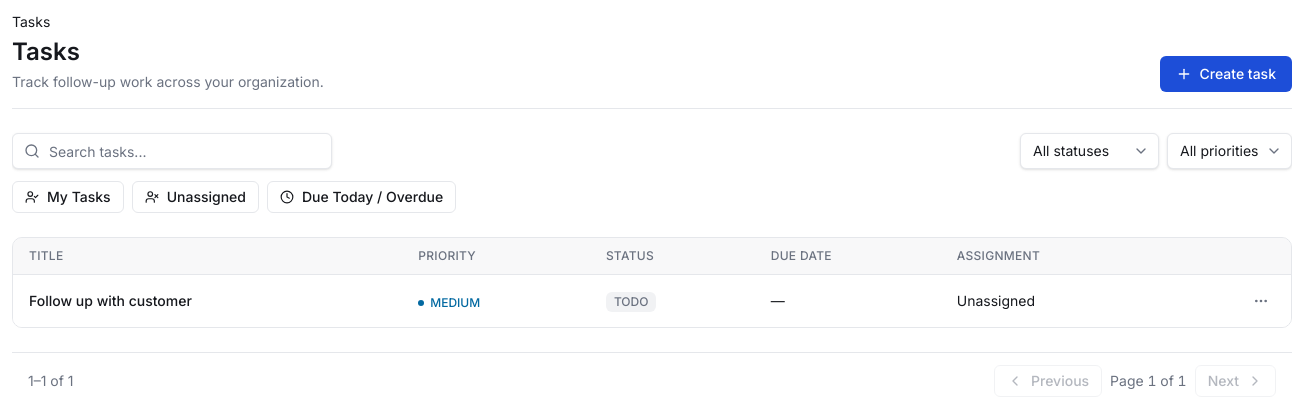
TasksListPage › RBAC visibility — Tasks intentionally differs from the Customer/Lead/Product pattern › EMPLOYEE sees Create task and Edit, but not Cancel
Expected: the link "Follow up with customer" is shown, [29,292,192,309]
Expected: the button "Create task" is shown, [1160,56,1292,92]
Click the button named "Actions for Follow up with customer" at (1261, 301), box [1247,287,1275,315]
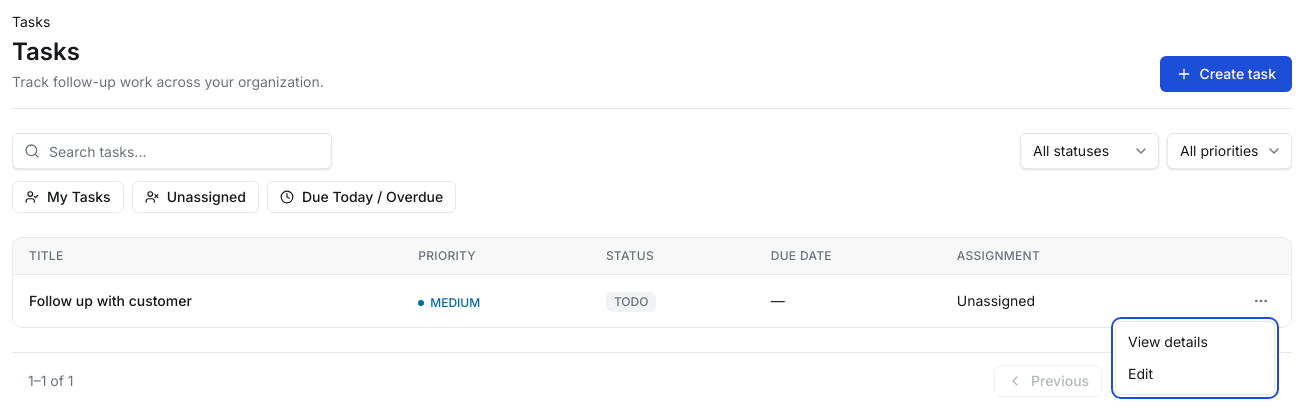
Expected: the menu item "Edit" is shown, [1128,365,1153,382]
